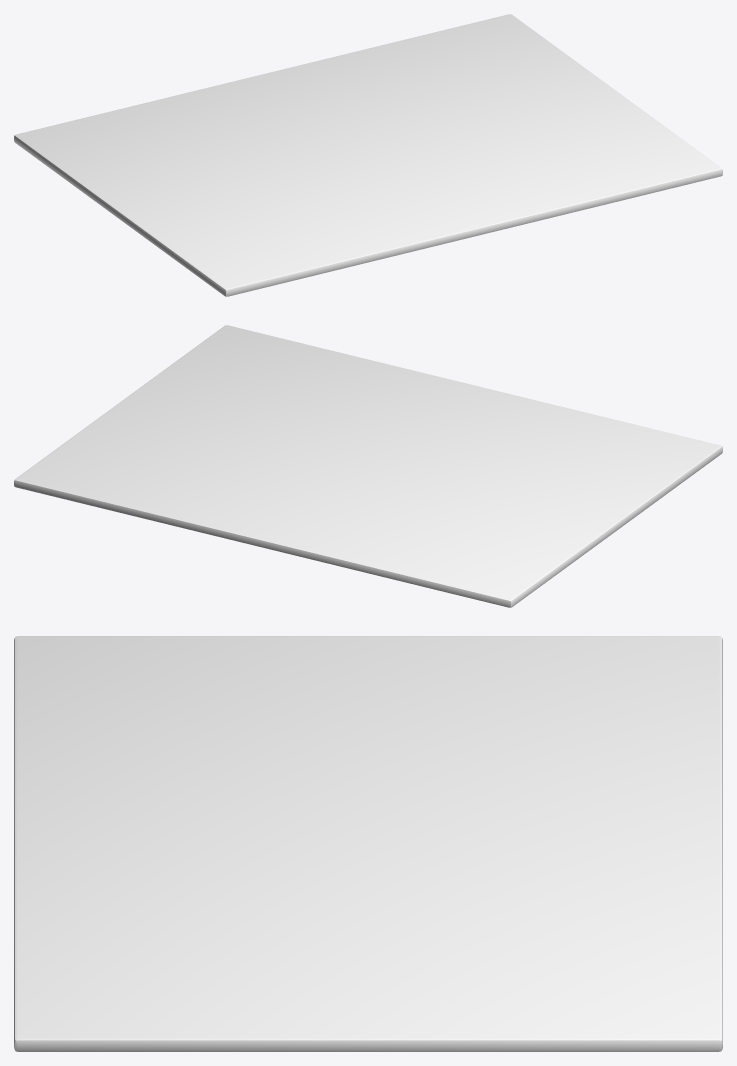
The model's file is shelf_top_glass_40.glb.
3 renders of one model, top to bottom at view 1: azimuth 30°, elevation 25°; view 2: azimuth 150°, elevation 25°; view 3: azimuth 270°, elevation 25°, orthographic. The views are drawn at different scales.
Visible parts, largest first — view 1: shelf_top_glass_40; view 2: shelf_top_glass_40; view 3: shelf_top_glass_40.
Boxes of the visible parts, x1=… form: shelf_top_glass_40: x1=14, y1=14, x2=722, y2=296; shelf_top_glass_40: x1=14, y1=325, x2=722, y2=607; shelf_top_glass_40: x1=14, y1=636, x2=722, y2=1051.
Bounding box in the file's own units: 0.361 × 0.00557 × 0.2669.
1 material, 1 textured.
